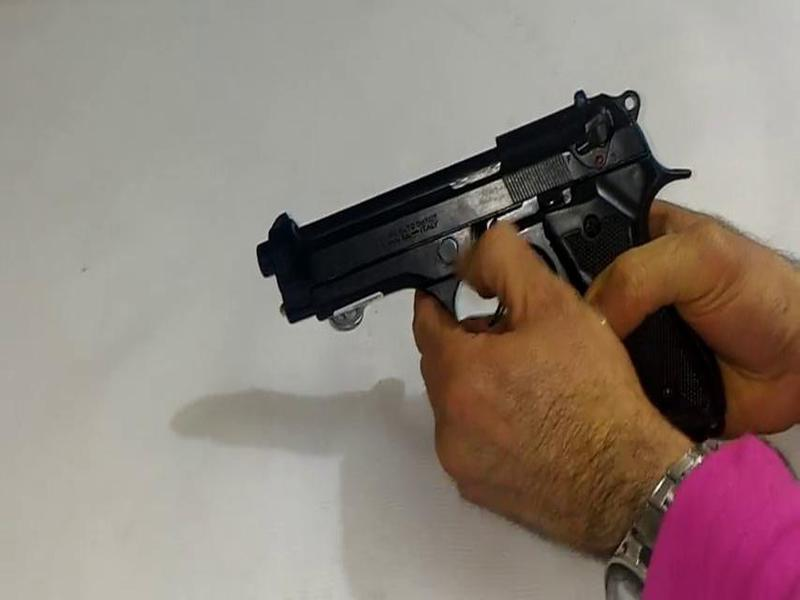Pistola: (223, 78, 727, 442)
